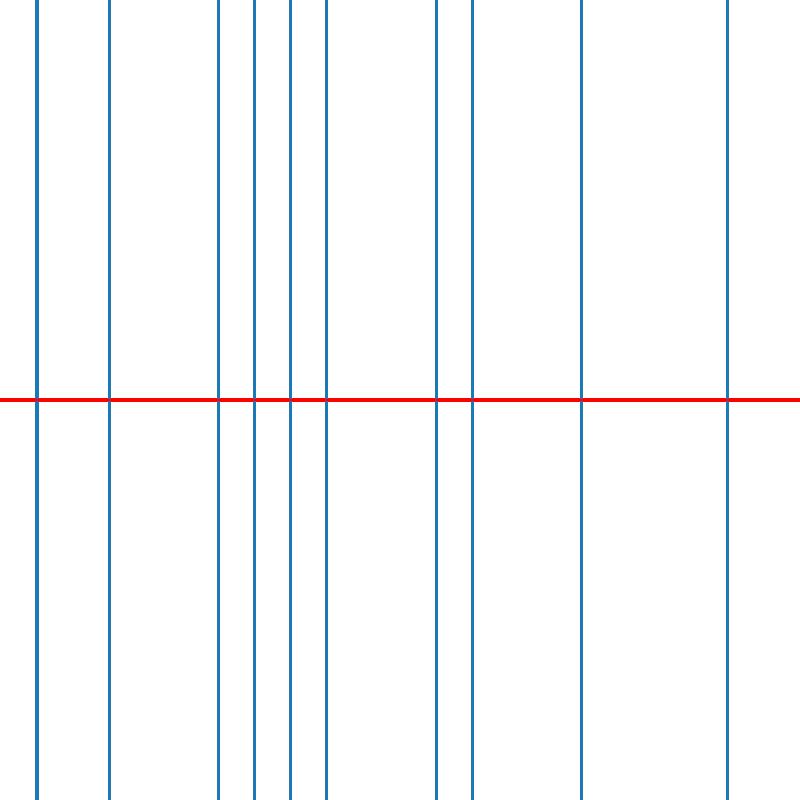root: (432, 396, 440, 404), (250, 396, 258, 404), (32, 396, 40, 404), (323, 396, 330, 404), (287, 396, 294, 404), (723, 396, 730, 404), (105, 396, 112, 404), (578, 396, 585, 404), (469, 396, 476, 404), (214, 396, 221, 404)
